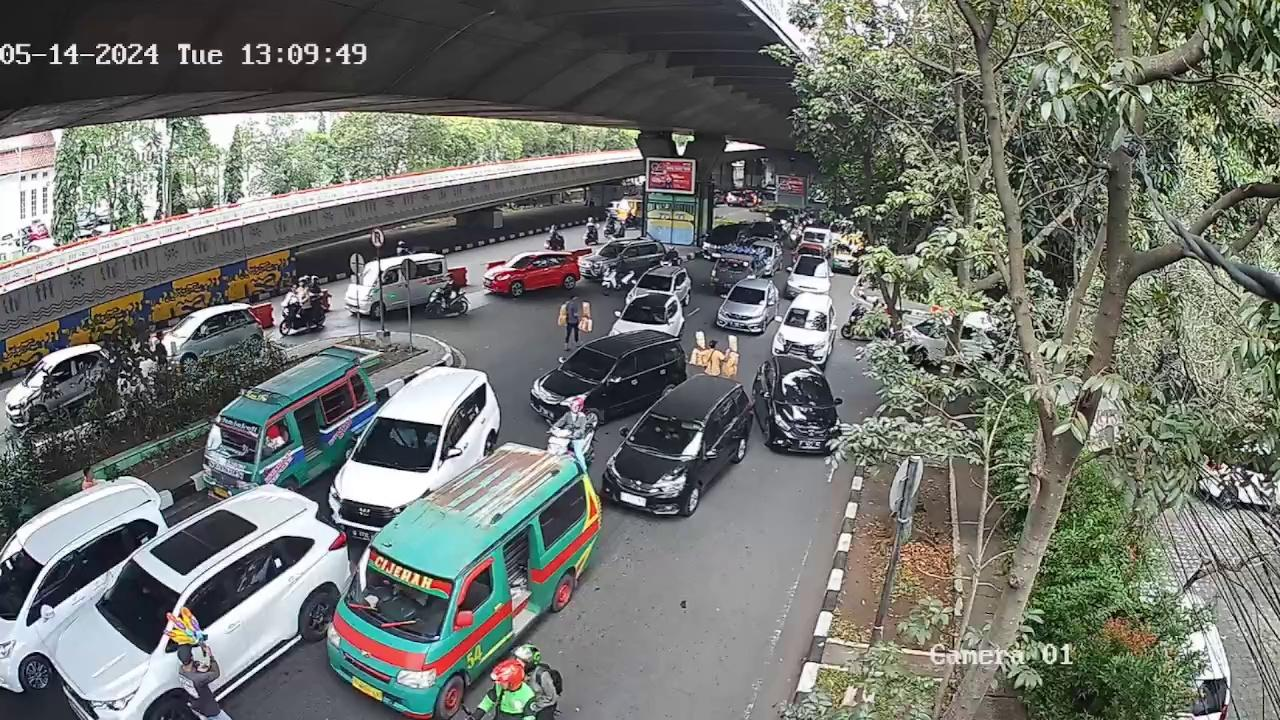pakai: (387, 423, 419, 450)
windshield: (343, 550, 452, 647), (103, 563, 185, 652), (356, 417, 442, 471), (632, 410, 705, 460), (557, 343, 617, 384)
